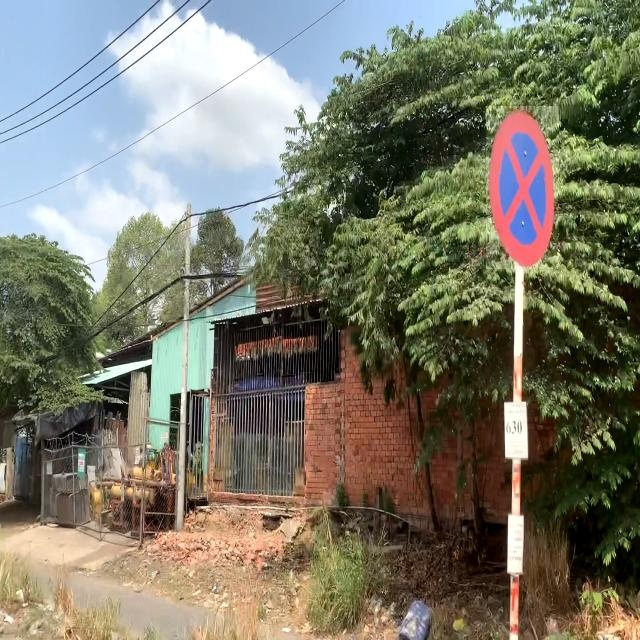bien_chi_dan: (486, 106, 559, 269)
